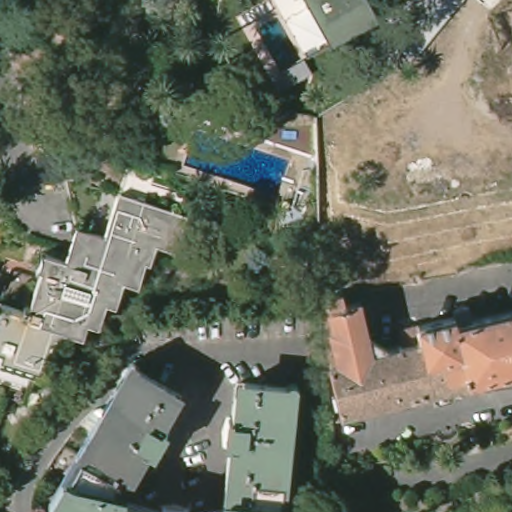pool: (179, 130, 292, 192), (251, 12, 297, 61)
